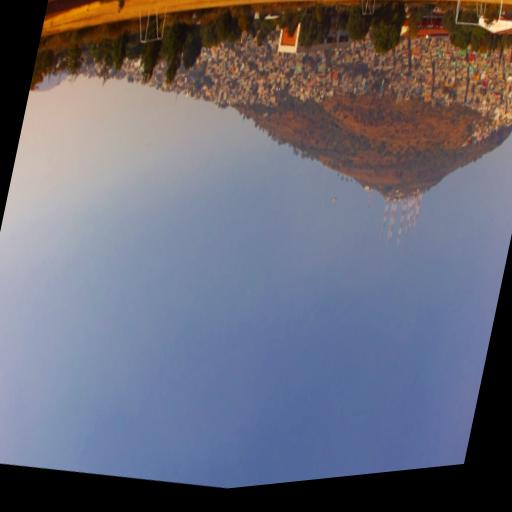drones: (330, 194, 338, 203)
